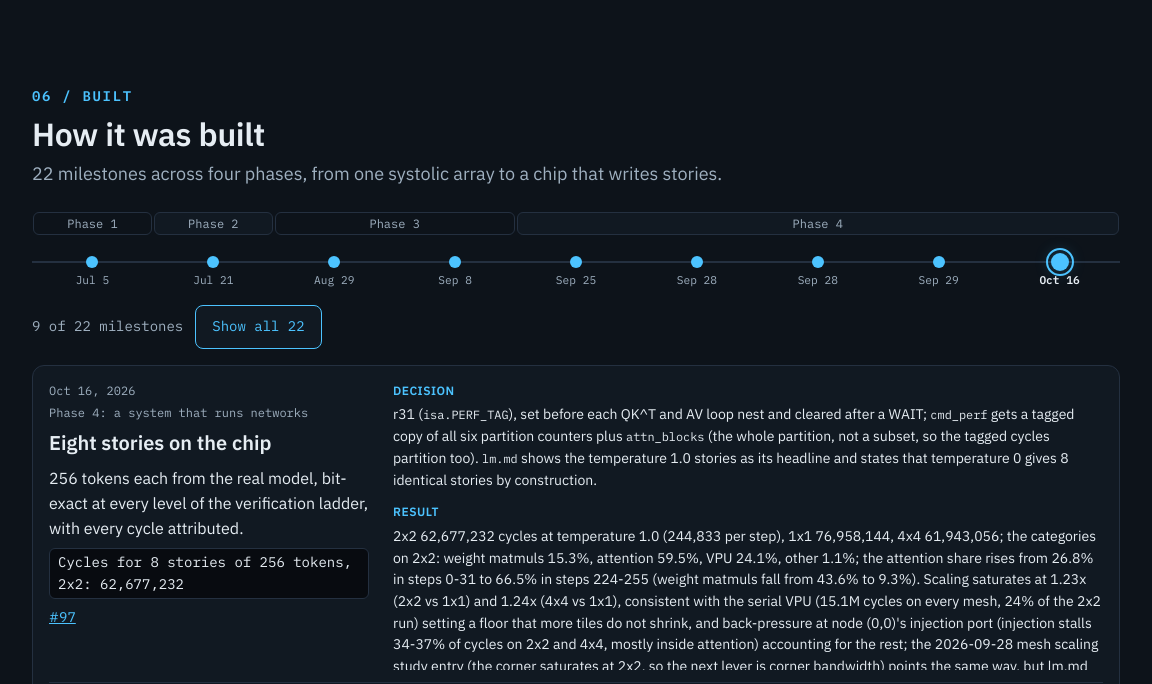
BuiltSection › selects another milestone from the rail and shows that milestone's own record
expect the heading "Decision" is shown: met, box top-left (393, 383), bottom-right (455, 398)
Click the button "Jul 5". click: click(92, 266)
box: top-left (32, 243), bottom-right (153, 289)
(page scrolled)
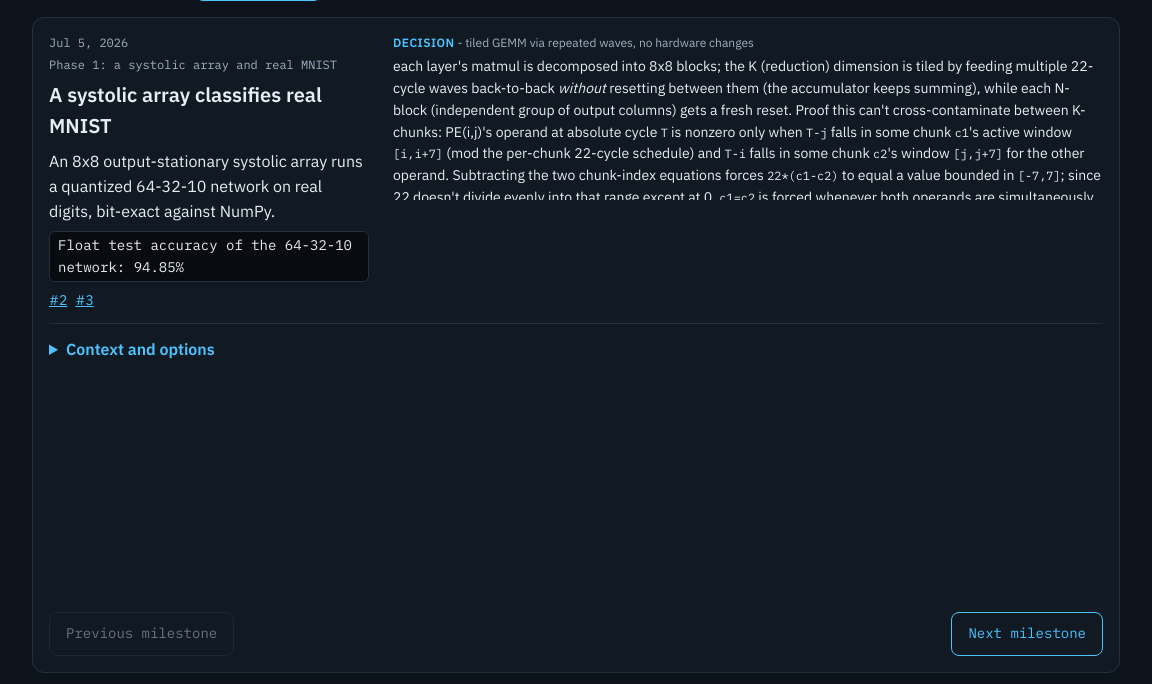
expect the heading with class "tl-title" reads "A systolic array classifies real MNIST": met, box top-left (49, 81), bottom-right (322, 139)
Click the heading "Context and options". click: click(140, 349)
box: top-left (66, 339), bottom-right (215, 359)
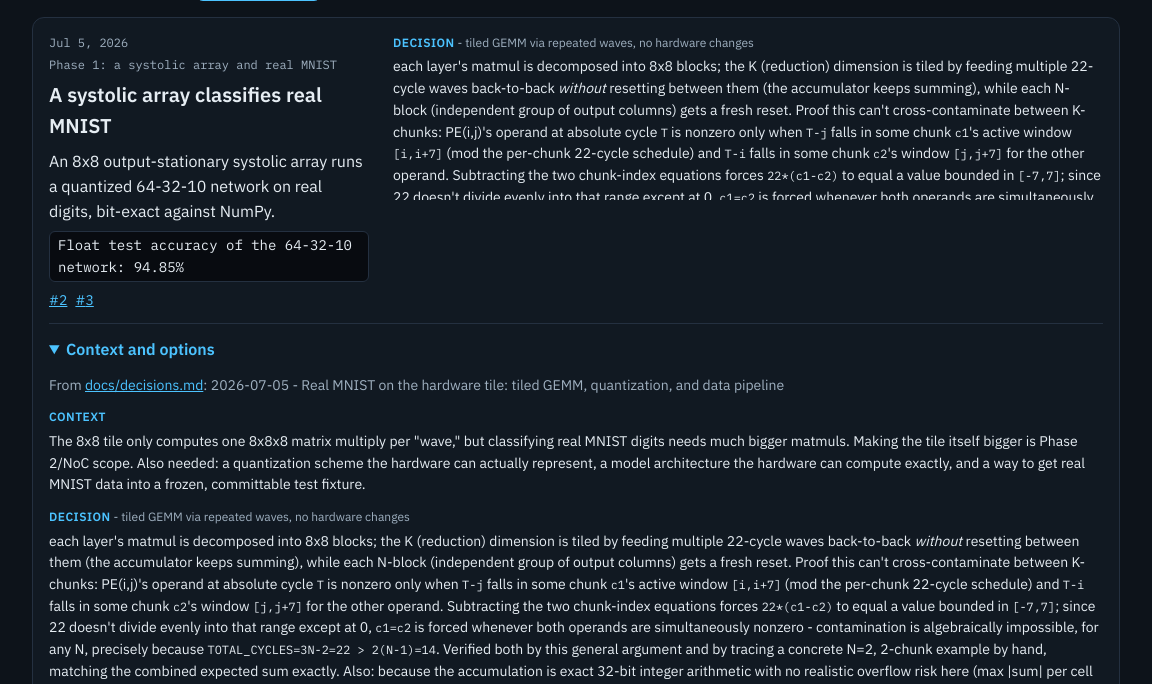
expect the element with class "tl-source" shows "2026-07-05": met, box top-left (211, 376), bottom-right (784, 394)
